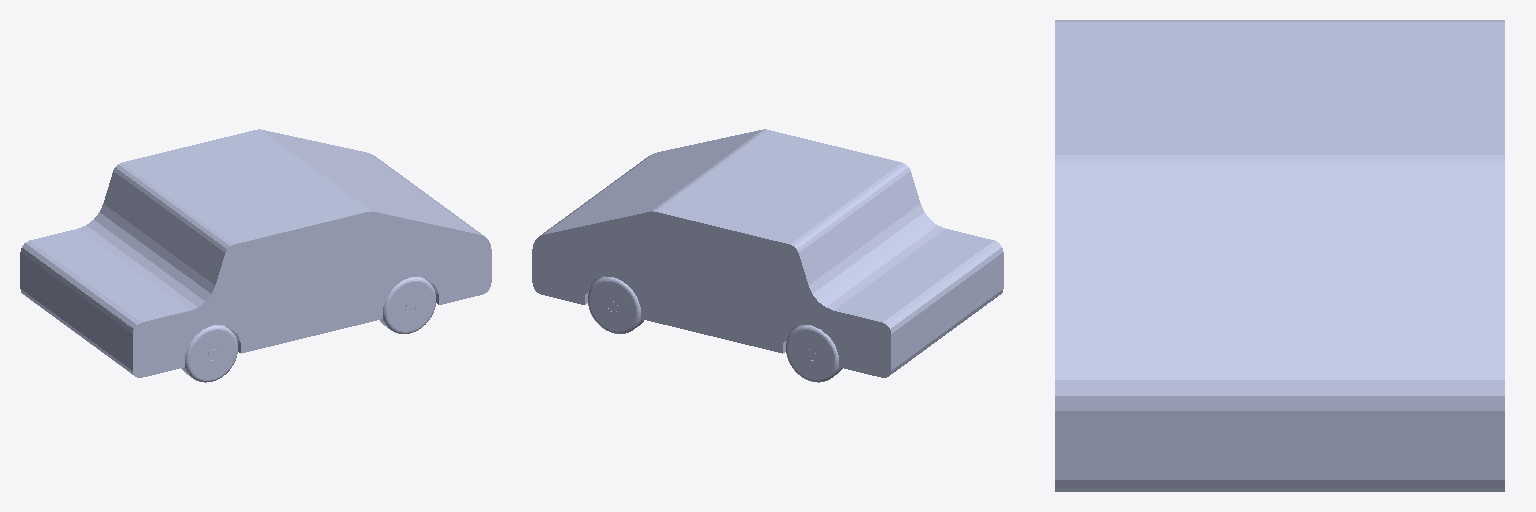
URDF robot description (full_tesla_truck_urdf):
<?xml version="1.0" encoding="utf-8"?>
<!-- This URDF was automatically created by SolidWorks to URDF Exporter! Originally created by [author] ([email redacted]) 
     Commit Version: 1.6.0-4-g7f85cfe  Build Version: 1.6.7995.38578
     For more information, please see http://wiki.ros.org/sw_urdf_exporter -->
<robot
  name="full_tesla_truck_urdf">
  <link
    name="base_link">
    <inertial>
      <origin
        xyz="0.00910777989909624 0 -0.0337255398760613"
        rpy="0 0 0" />
      <mass
        value="1.01774082387667" />
      <inertia
        ixx="0.00123679000195554"
        ixy="4.78648099154926E-20"
        ixz="-3.11720525242503E-05"
        iyy="0.00293732187940151"
        iyz="1.98612471063947E-20"
        izz="0.0036540907711409" />
    </inertial>
    <visual>
      <origin
        xyz="0 0 0"
        rpy="0 0 0" />
      <geometry>
        <mesh
          filename="package://full_tesla_truck_urdf/meshes/base_link.STL" />
      </geometry>
      <material
        name="">
        <color
          rgba="0.792156862745098 0.819607843137255 0.933333333333333 1" />
      </material>
    </visual>
    <collision>
      <origin
        xyz="0 0 0"
        rpy="0 0 0" />
      <geometry>
        <mesh
          filename="package://full_tesla_truck_urdf/meshes/base_link.STL" />
      </geometry>
    </collision>
  </link>
  <link
    name="front_left_link">
    <inertial>
      <origin
        xyz="0 -0.005 0"
        rpy="0 0 0" />
      <mass
        value="0.0066289" />
      <inertia
        ixx="4.3359E-07"
        ixy="-2.7573E-25"
        ixz="5.076E-23"
        iyy="7.6063E-07"
        iyz="4.1359E-24"
        izz="4.3359E-07" />
    </inertial>
    <visual>
      <origin
        xyz="0 0 0"
        rpy="0 0 0" />
      <geometry>
        <mesh
          filename="package://full_tesla_truck_urdf/meshes/front_left_link.STL" />
      </geometry>
      <material
        name="">
        <color
          rgba="0.79216 0.81961 0.93333 1" />
      </material>
    </visual>
    <collision>
      <origin
        xyz="0 0 0"
        rpy="0 0 0" />
      <geometry>
        <mesh
          filename="package://full_tesla_truck_urdf/meshes/front_left_link.STL" />
      </geometry>
    </collision>
  </link>
  <joint
    name="front_left_joint"
    type="continuous">
    <origin
      xyz="0.06153 0.054495 -0.056567"
      rpy="0 0 0" />
    <parent
      link="base_link" />
    <child
      link="front_left_link" />
    <axis
      xyz="0 -1 0" />
    <limit
      lower="0"
      upper="0"
      effort="0"
      velocity="0" />
  </joint>
  <link
    name="back_left_link">
    <inertial>
      <origin
        xyz="3.4694E-18 -0.005 0"
        rpy="0 0 0" />
      <mass
        value="0.0066289" />
      <inertia
        ixx="4.3359E-07"
        ixy="1.1029E-24"
        ixz="2.93E-23"
        iyy="7.6063E-07"
        iyz="-1.7922E-24"
        izz="4.3359E-07" />
    </inertial>
    <visual>
      <origin
        xyz="0 0 0"
        rpy="0 0 0" />
      <geometry>
        <mesh
          filename="package://full_tesla_truck_urdf/meshes/back_left_link.STL" />
      </geometry>
      <material
        name="">
        <color
          rgba="0.79216 0.81961 0.93333 1" />
      </material>
    </visual>
    <collision>
      <origin
        xyz="0 0 0"
        rpy="0 0 0" />
      <geometry>
        <mesh
          filename="package://full_tesla_truck_urdf/meshes/back_left_link.STL" />
      </geometry>
    </collision>
  </link>
  <joint
    name="back_left_joint"
    type="continuous">
    <origin
      xyz="-0.049669 0.054511 -0.056567"
      rpy="0 0 0" />
    <parent
      link="base_link" />
    <child
      link="back_left_link" />
    <axis
      xyz="0 -1 0" />
    <limit
      lower="0"
      upper="0"
      effort="0"
      velocity="0" />
  </joint>
  <link
    name="front_right_link">
    <inertial>
      <origin
        xyz="0 0.005 0"
        rpy="0 0 0" />
      <mass
        value="0.0066289" />
      <inertia
        ixx="4.3359E-07"
        ixy="-2.8345E-24"
        ixz="5.0785E-24"
        iyy="7.6063E-07"
        iyz="-1.8072E-24"
        izz="4.3359E-07" />
    </inertial>
    <visual>
      <origin
        xyz="0 0 0"
        rpy="0 0 0" />
      <geometry>
        <mesh
          filename="package://full_tesla_truck_urdf/meshes/front_right_link.STL" />
      </geometry>
      <material
        name="">
        <color
          rgba="0.79216 0.81961 0.93333 1" />
      </material>
    </visual>
    <collision>
      <origin
        xyz="0 0 0"
        rpy="0 0 0" />
      <geometry>
        <mesh
          filename="package://full_tesla_truck_urdf/meshes/front_right_link.STL" />
      </geometry>
    </collision>
  </link>
  <joint
    name="front_right_joint"
    type="continuous">
    <origin
      xyz="0.06153 -0.054505 -0.056567"
      rpy="0 0 0" />
    <parent
      link="base_link" />
    <child
      link="front_right_link" />
    <axis
      xyz="0 1 0" />
    <limit
      lower="0"
      upper="0"
      effort="0"
      velocity="0" />
  </joint>
  <link
    name="back_right_link">
    <inertial>
      <origin
        xyz="3.4694E-18 0.005 1.3878E-17"
        rpy="0 0 0" />
      <mass
        value="0.0066289" />
      <inertia
        ixx="4.3359E-07"
        ixy="-3.108E-24"
        ixz="-2.4808E-23"
        iyy="7.6063E-07"
        iyz="-1.6326E-24"
        izz="4.3359E-07" />
    </inertial>
    <visual>
      <origin
        xyz="0 0 0"
        rpy="0 0 0" />
      <geometry>
        <mesh
          filename="package://full_tesla_truck_urdf/meshes/back_right_link.STL" />
      </geometry>
      <material
        name="">
        <color
          rgba="0.79216 0.81961 0.93333 1" />
      </material>
    </visual>
    <collision>
      <origin
        xyz="0 0 0"
        rpy="0 0 0" />
      <geometry>
        <mesh
          filename="package://full_tesla_truck_urdf/meshes/back_right_link.STL" />
      </geometry>
    </collision>
  </link>
  <joint
    name="back_right_joint"
    type="continuous">
    <origin
      xyz="-0.049669 -0.054464 -0.056567"
      rpy="0 0 0" />
    <parent
      link="base_link" />
    <child
      link="back_right_link" />
    <axis
      xyz="0 1 0" />
    <limit
      lower="0"
      upper="0"
      effort="0"
      velocity="0" />
  </joint>
</robot>

--- Render facts (derived) ---
The picture shows the robot from 3 angles, left to right: view 1: azimuth 30°, elevation 25°; view 2: azimuth 150°, elevation 25°; view 3: azimuth 270°, elevation 25°; orthographic projection.
Model full_tesla_truck_urdf with 5 links and 4 joints (4 continuous), rooted at base_link, posed all joints at 0.
Links seen in each view (by area): view 1: base_link, front_right_link, back_right_link; view 2: base_link, back_left_link, front_left_link; view 3: base_link.
Link boxes in pixels (x1=…): base_link: x1=20, y1=129, x2=491, y2=377; front_right_link: x1=380, y1=276, x2=435, y2=333; back_right_link: x1=181, y1=325, x2=237, y2=382; base_link: x1=532, y1=129, x2=1003, y2=377; back_left_link: x1=786, y1=325, x2=842, y2=382; front_left_link: x1=588, y1=276, x2=643, y2=333; base_link: x1=1055, y1=20, x2=1504, y2=491.
Size in the robot's own frame: 0.2015 by 0.109 by 0.0716 metres.
5 mesh visuals loaded from 5 distinct referenced files (5 binary STL).